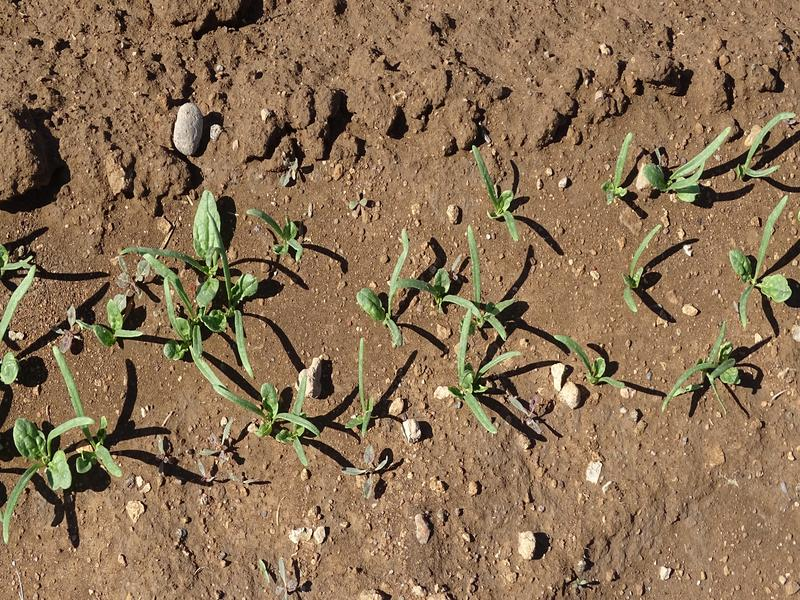Espinaca: (152, 189, 329, 463), (1, 227, 139, 510), (355, 225, 518, 441), (576, 115, 800, 190), (657, 330, 756, 415), (731, 201, 794, 332), (466, 153, 533, 231), (552, 330, 631, 391), (624, 220, 654, 311)
